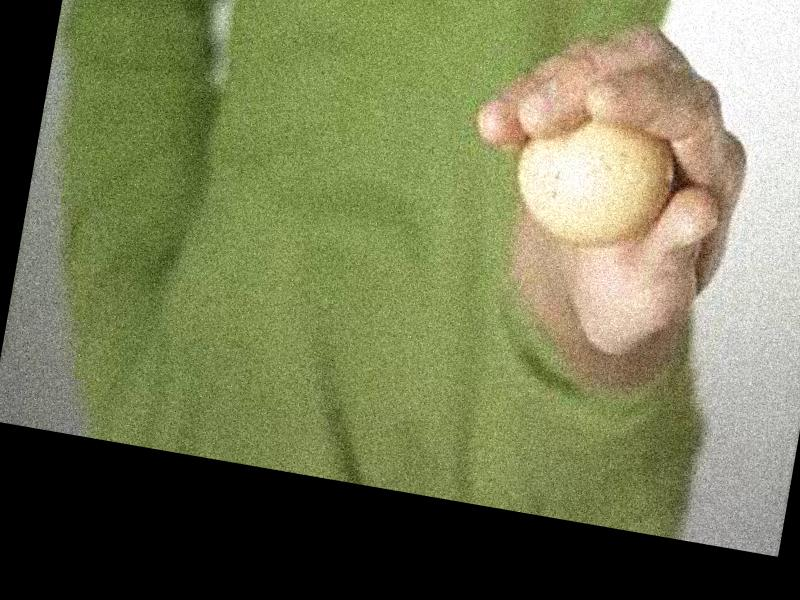Eggs: (506, 107, 680, 256)
